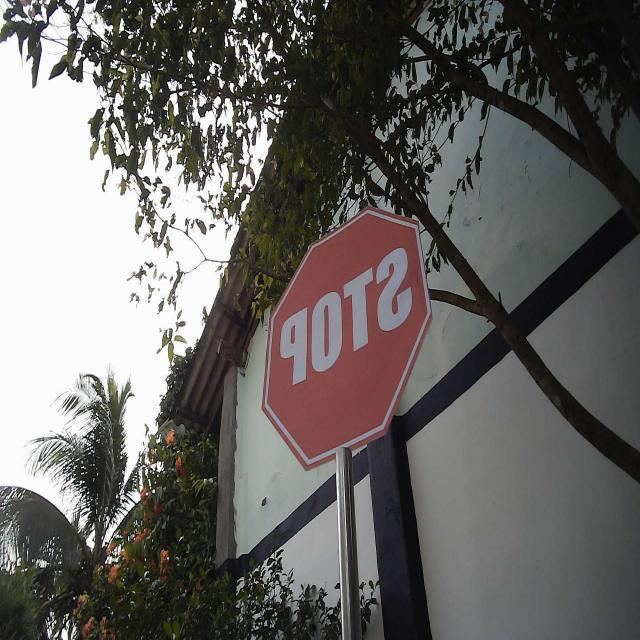stop: (259, 200, 434, 476)
